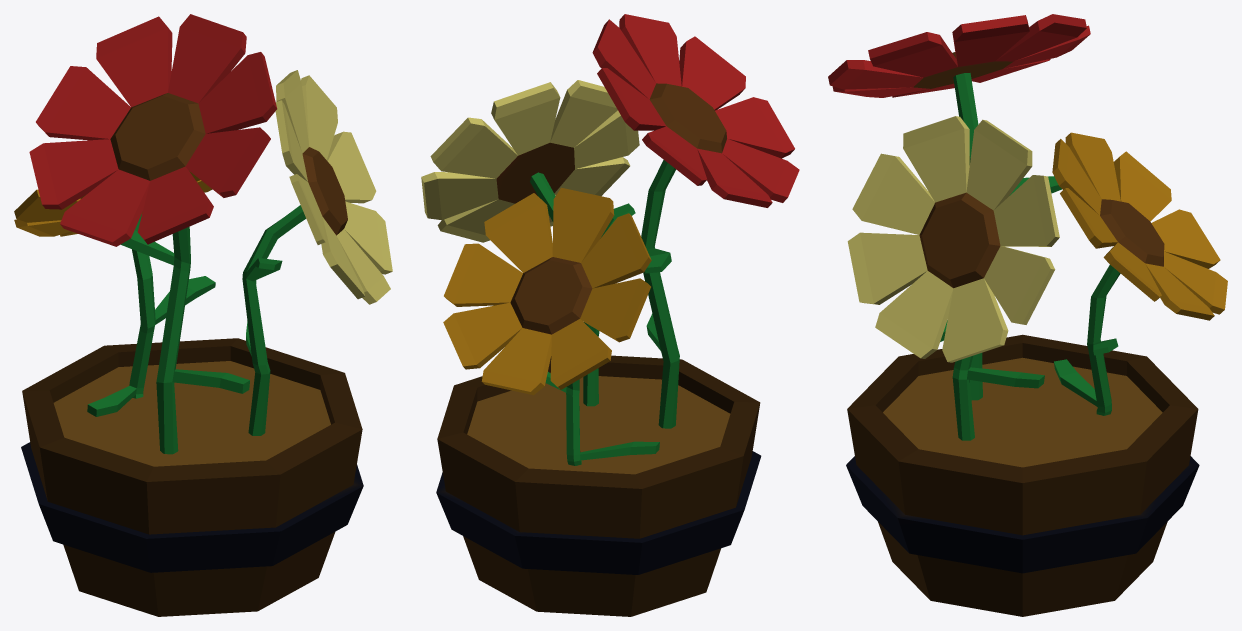
Rendered from flower-bucket-light.fbx.
The picture shows the model from 3 angles, left to right: view 1: azimuth 30°, elevation 25°; view 2: azimuth 150°, elevation 25°; view 3: azimuth 270°, elevation 25°; orthographic projection. The views are drawn at different scales.
Parts seen in each view (by area): view 1: Flower-bucket-light; view 2: Flower-bucket-light; view 3: Flower-bucket-light.
Part boxes in pixels (x1,y1,x2,y2): Flower-bucket-light: (14, 14, 392, 616); Flower-bucket-light: (421, 14, 799, 616); Flower-bucket-light: (828, 14, 1227, 616).
Bounding box in the file's own units: 64.08 × 95.95 × 63.55.
